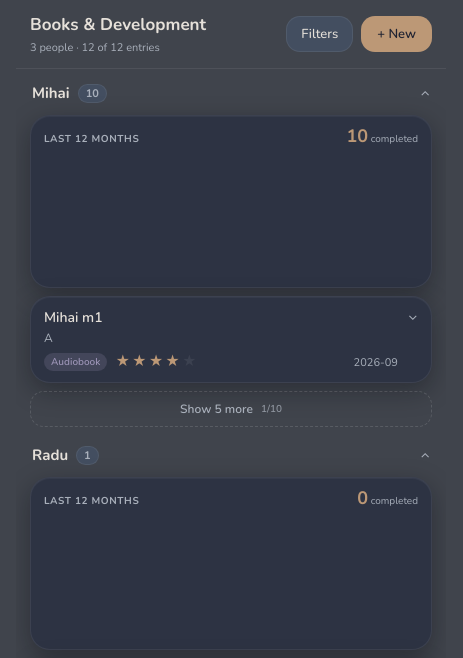
Scenario: Books & Development — per-person sections › collapses a person's section
Expected: the text "Mihai m1" is shown, [44,308,103,327]
What coordinates should you click on to do the following:
click the text "Mihai"
I would click on:
 (51, 93)
Its box is [32,83,70,103].
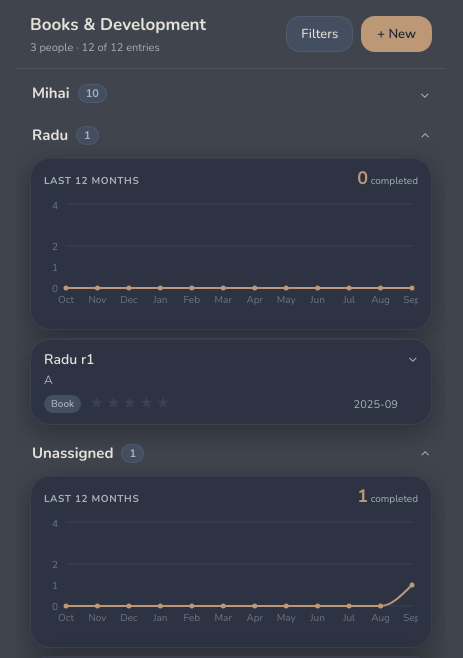
Expected: the button "Mihai m1" is gone
